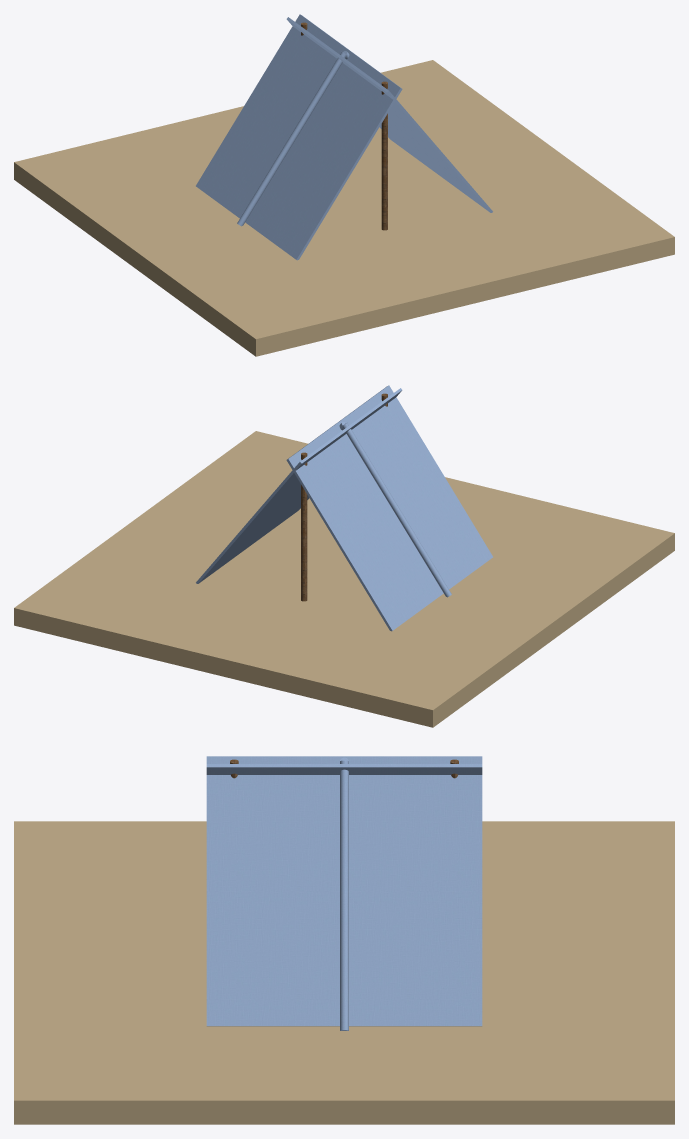
File: tenda.glb
3 views of the same model, one above another, from view 1: azimuth 30°, elevation 25°; view 2: azimuth 150°, elevation 25°; view 3: azimuth 270°, elevation 25° (orthographic). The views are drawn at different scales.
Visible parts, largest first — view 1: Base ilustrativa, Pano, Pano.001, Borda inclinada, Polo.001; view 2: Base ilustrativa, Pano, Pano.001, Borda inclinada, Polo; view 3: Base ilustrativa, Pano.001, Pano, Borda inclinada.001.
Boxes of the visible parts, x1=… form: Base ilustrativa: x1=14, y1=60, x2=674, y2=356; Pano: x1=196, y1=14, x2=402, y2=260; Pano.001: x1=286, y1=17, x2=492, y2=212; Borda inclinada: x1=237, y1=52, x2=345, y2=226; Polo.001: x1=381, y1=81, x2=387, y2=230; Base ilustrativa: x1=14, y1=431, x2=674, y2=727; Pano: x1=286, y1=385, x2=492, y2=631; Pano.001: x1=196, y1=388, x2=402, y2=583; Borda inclinada: x1=343, y1=423, x2=451, y2=597; Polo: x1=301, y1=452, x2=307, y2=601; Base ilustrativa: x1=14, y1=821, x2=674, y2=1124; Pano.001: x1=206, y1=756, x2=482, y2=1026; Pano: x1=206, y1=764, x2=482, y2=774; Borda inclinada.001: x1=340, y1=760, x2=348, y2=1030.
Bounding box in the file's own units: 6 × 2.26 × 6.
4 materials, 3 textured.
